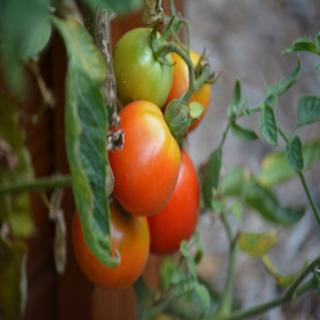tomato: (106, 99, 182, 218), (71, 195, 150, 289), (116, 15, 180, 112), (162, 47, 222, 140), (148, 148, 198, 257)
